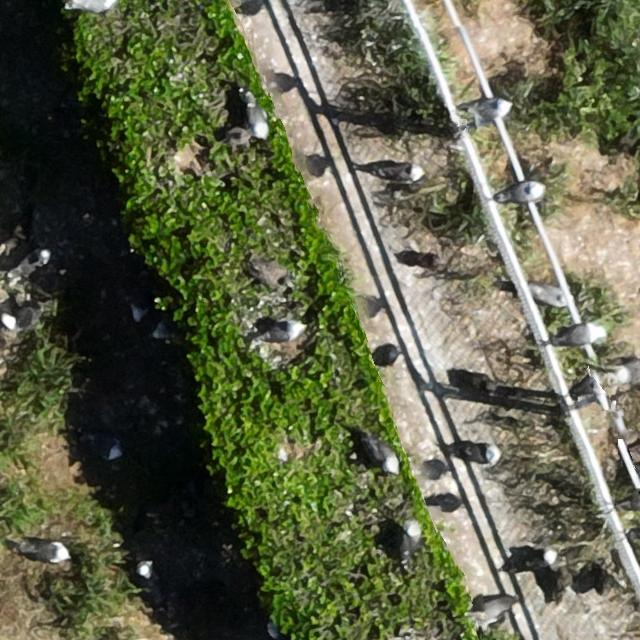umineko: (516, 545, 558, 575), (553, 324, 605, 348), (469, 98, 511, 122), (494, 182, 544, 202), (24, 542, 69, 562), (376, 164, 421, 181), (87, 436, 121, 457), (248, 103, 268, 137), (401, 524, 421, 558), (13, 250, 47, 270), (374, 442, 397, 471), (264, 323, 300, 341), (132, 308, 157, 333), (136, 563, 156, 588), (535, 287, 561, 306), (2, 311, 29, 329), (619, 362, 638, 386), (481, 442, 499, 464), (615, 411, 628, 434)
